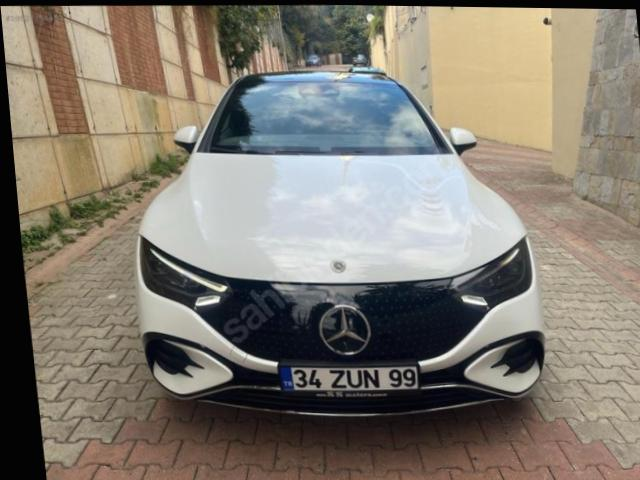plaka: (281, 366, 418, 390)
